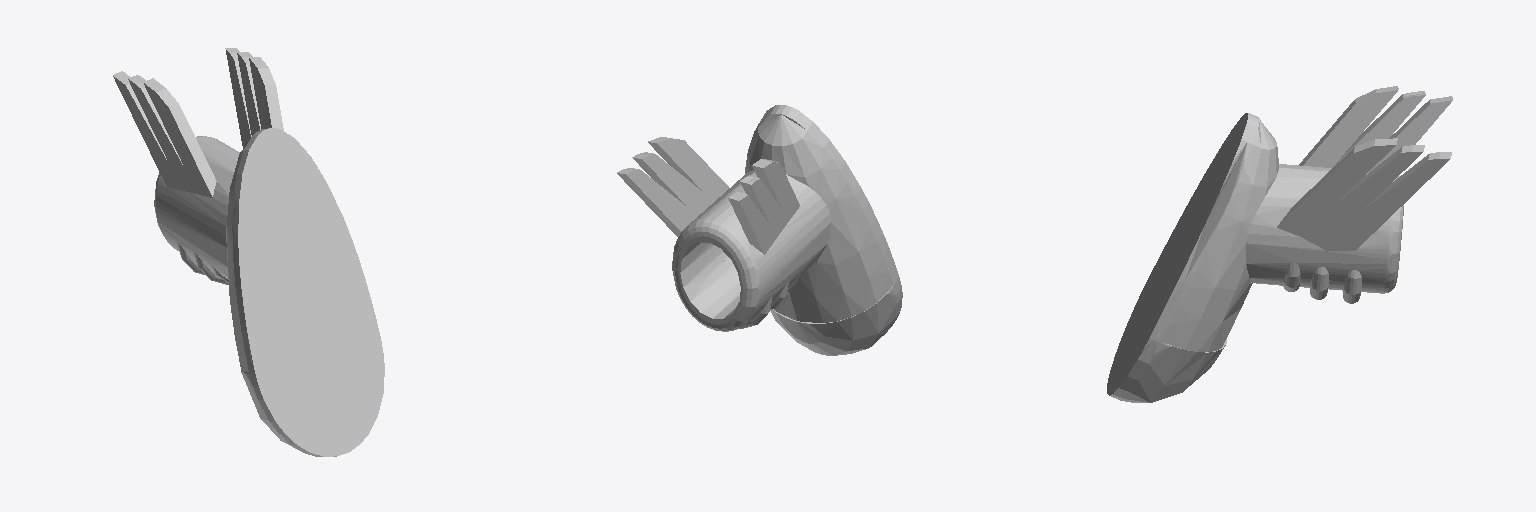
File: boots with wings.obj
3 renders of one model, left to right at view 1: azimuth 30°, elevation 25°; view 2: azimuth 150°, elevation 25°; view 3: azimuth 270°, elevation 25°, orthographic.
Visible parts, largest first — view 1: object_1; view 2: object_1; view 3: object_1.
Part boxes in pixels (x1,y1,x2,y2): object_1: (113, 48, 384, 456); object_1: (617, 105, 902, 355); object_1: (1107, 86, 1452, 402).
Size of the model in its own units: 12.2 by 25.5 by 27.65.